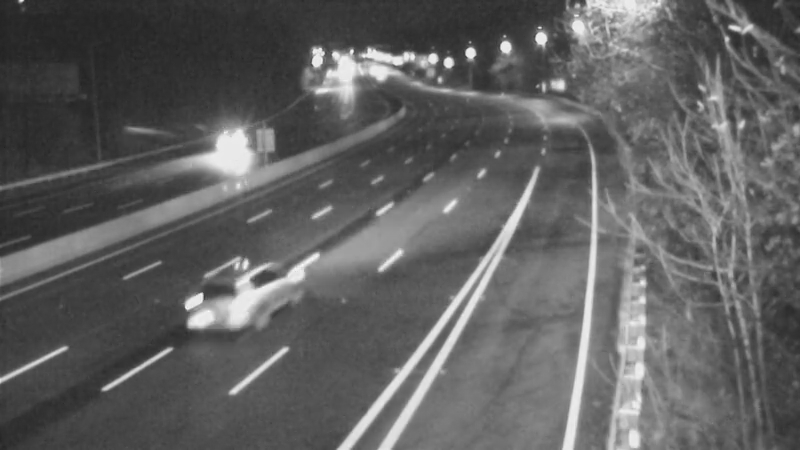vehicle: (187, 258, 267, 338), (205, 118, 255, 168)
